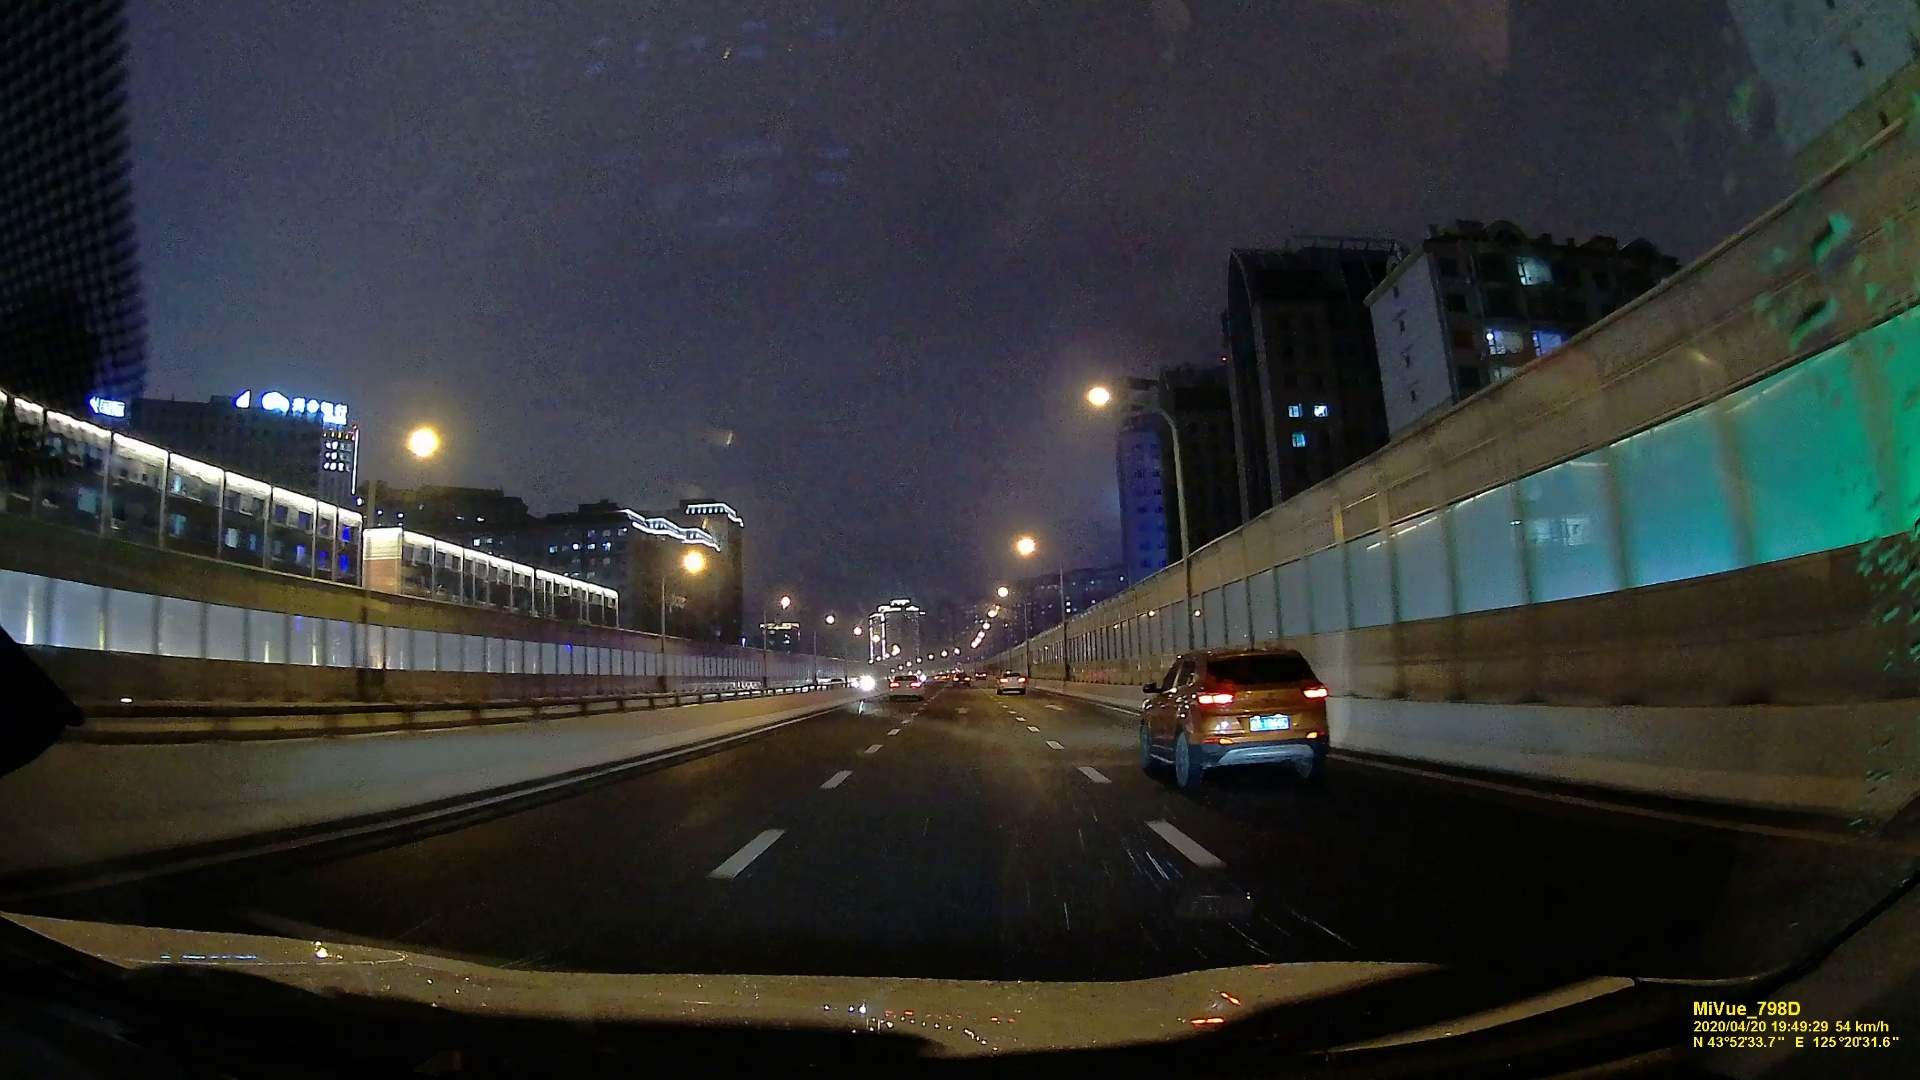vehicle: (1135, 644, 1338, 789), (887, 673, 924, 700), (996, 671, 1029, 694), (952, 671, 972, 687)
